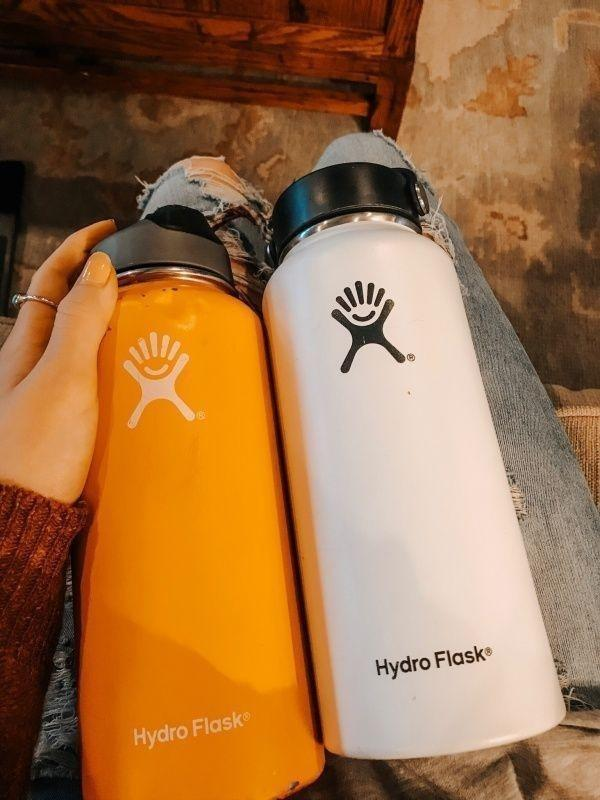gym bottle: (260, 156, 565, 763), (77, 203, 324, 799)
